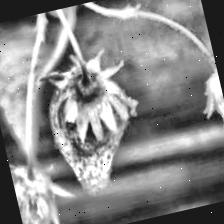Gray Mold: (36, 48, 156, 201)
